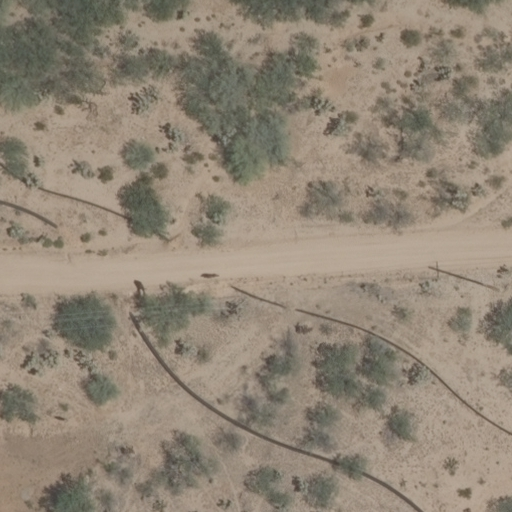DT: (490, 277, 505, 296)
